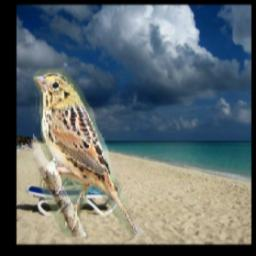Sparrow: (33, 68, 143, 237)
